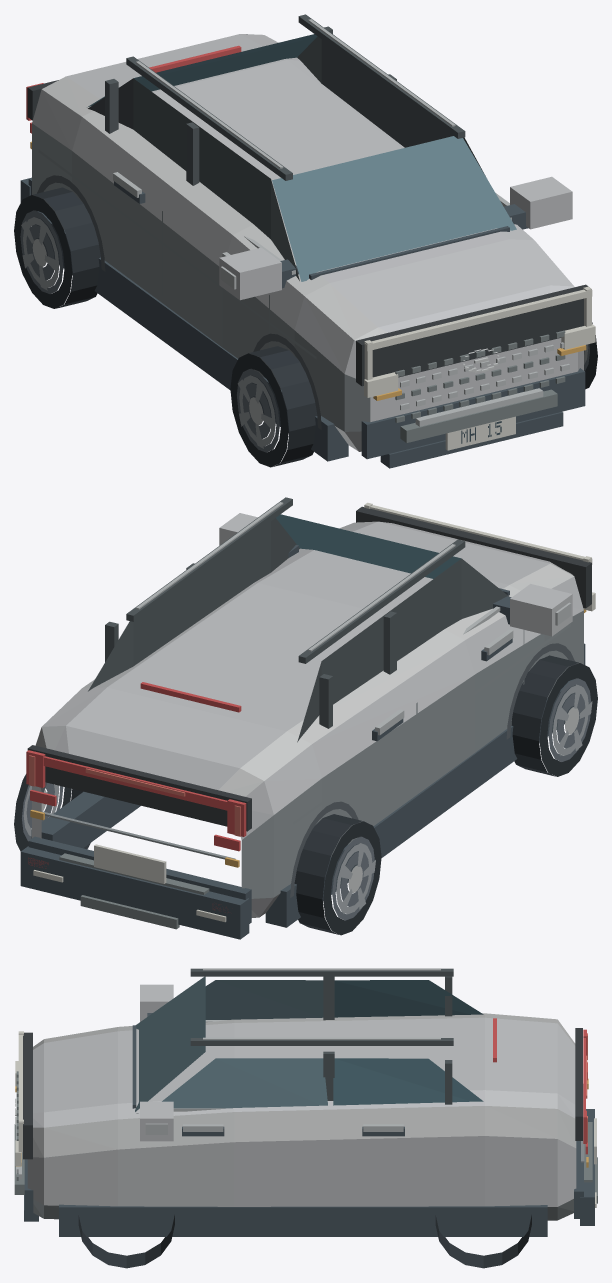
Rendered from creta-inspired-suv.glb.
The picture shows the model from 3 angles, top to bottom: view 1: azimuth 30°, elevation 25°; view 2: azimuth 150°, elevation 25°; view 3: azimuth 270°, elevation 25°; orthographic projection. The views are drawn at different scales.
Parts seen in each view (by area): view 1: body, glassTop, shadow, roof, under, tyre, black, shoulder, chrome, grey, led, glass (+6 smaller); view 2: body, roof, shadow, under, tyre, black, shoulder, glass, red, rimDark, chrome, rim (+6 smaller); view 3: body, under, shoulder, glassTop, glass, roof, chrome, tyre, black, grey, shadow, led (+1 smaller).
Part boxes in pixels (left/top/right/bottom): body: left=32, top=34, right=583, bottom=451; glassTop: left=272, top=136, right=516, bottom=281; shadow: left=32, top=123, right=370, bottom=431; roof: left=88, top=14, right=485, bottom=280; under: left=20, top=177, right=585, bottom=468; tyre: left=14, top=187, right=597, bottom=467; black: left=27, top=34, right=588, bottom=386; shoulder: left=42, top=76, right=387, bottom=340; chrome: left=113, top=19, right=569, bottom=426; grey: left=395, top=330, right=565, bottom=442; led: left=364, top=286, right=595, bottom=397; glass: left=87, top=34, right=317, bottom=107; body: left=32, top=513, right=583, bottom=917; roof: left=88, top=497, right=509, bottom=742; shadow: left=42, top=610, right=583, bottom=898; under: left=20, top=545, right=585, bottom=939; tyre: left=14, top=655, right=597, bottom=935; black: left=27, top=506, right=591, bottom=831; shoulder: left=35, top=562, right=573, bottom=796; glass: left=276, top=514, right=461, bottom=578; red: left=26, top=682, right=246, bottom=912; rimDark: left=22, top=678, right=591, bottom=920; chrome: left=136, top=502, right=571, bottom=735; rim: left=23, top=684, right=592, bottom=914; body: left=27, top=984, right=576, bottom=1206; under: left=24, top=1013, right=594, bottom=1236; shoulder: left=33, top=1013, right=576, bottom=1157; glassTop: left=135, top=976, right=327, bottom=1111; glass: left=333, top=980, right=483, bottom=1105; roof: left=136, top=968, right=453, bottom=1113; chrome: left=16, top=968, right=440, bottom=1179; tyre: left=78, top=1215, right=531, bottom=1268; black: left=23, top=1028, right=582, bottom=1159; grey: left=14, top=1071, right=597, bottom=1203; shadow: left=33, top=1084, right=584, bottom=1220; led: left=15, top=1031, right=596, bottom=1207.
Size of the model in its own units: 2.56 by 1.79 by 4.66.
